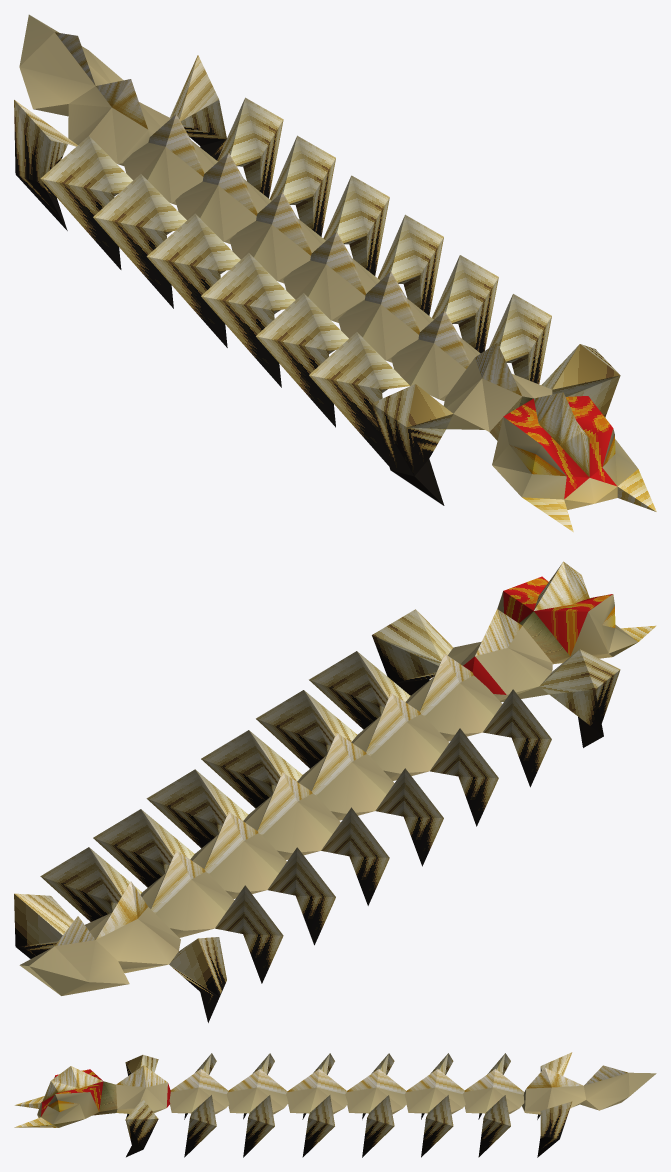
The model's file is gnawer-lod2.glb.
The picture shows the model from 3 angles, top to bottom: view 1: azimuth 30°, elevation 25°; view 2: azimuth 150°, elevation 25°; view 3: azimuth 270°, elevation 25°; orthographic projection. The views are drawn at different scales.
Visible parts, largest first — view 1: gnawer-lod2; view 2: gnawer-lod2; view 3: gnawer-lod2.
Boxes of the visible parts, x1,y1,x2,y2 form: gnawer-lod2: [14, 14, 656, 532]; gnawer-lod2: [14, 561, 656, 1022]; gnawer-lod2: [14, 1052, 656, 1157].
Size of the model in its own units: 2.46 by 1.3 by 10.26.
Materials: 9 (9 with a texture image).
